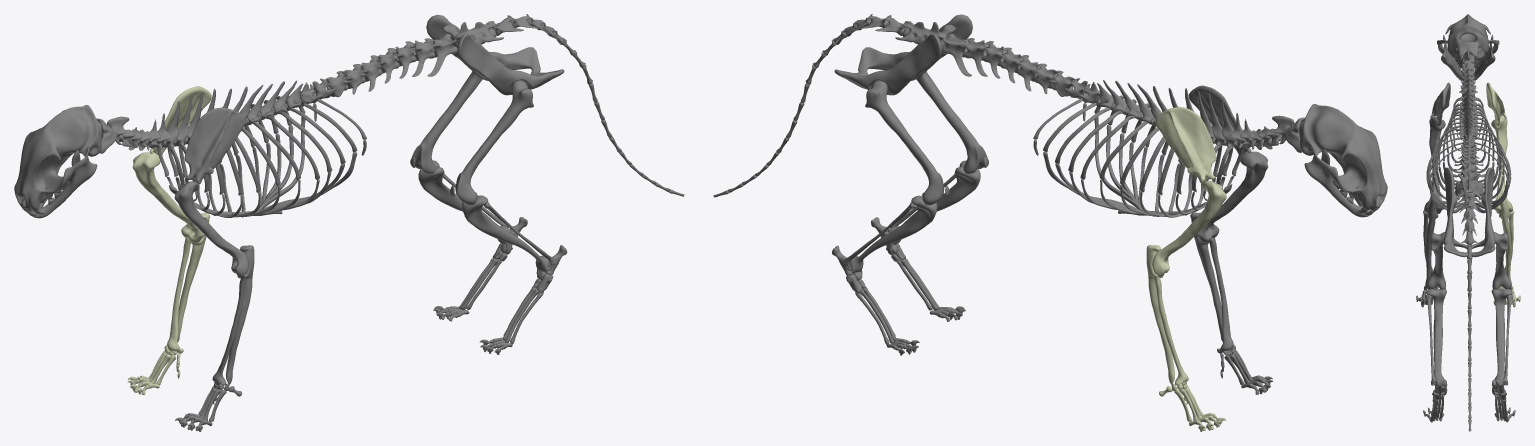
Rendered from cat-foot.glb.
3 renders of one model, left to right at view 1: azimuth 30°, elevation 25°; view 2: azimuth 150°, elevation 25°; view 3: azimuth 270°, elevation 25°, orthographic. The views are drawn at different scales.
Parts seen in each view (by area): view 1: Cat_Low_Poly.050, Cat_Low_Poly.215; view 2: Cat_Low_Poly.050, Cat_Low_Poly.215; view 3: Cat_Low_Poly.050, Cat_Low_Poly.215.
Boxes of the visible parts, box(x1,y1,x2,y2) form: Cat_Low_Poly.050: box(14, 14, 684, 431); Cat_Low_Poly.215: box(127, 86, 211, 394); Cat_Low_Poly.050: box(713, 14, 1387, 394); Cat_Low_Poly.215: box(1146, 107, 1226, 431); Cat_Low_Poly.050: box(1416, 14, 1515, 431); Cat_Low_Poly.215: box(1486, 82, 1520, 307).
Size of the model in its own units: 12.39 by 5.75 by 2.18.
